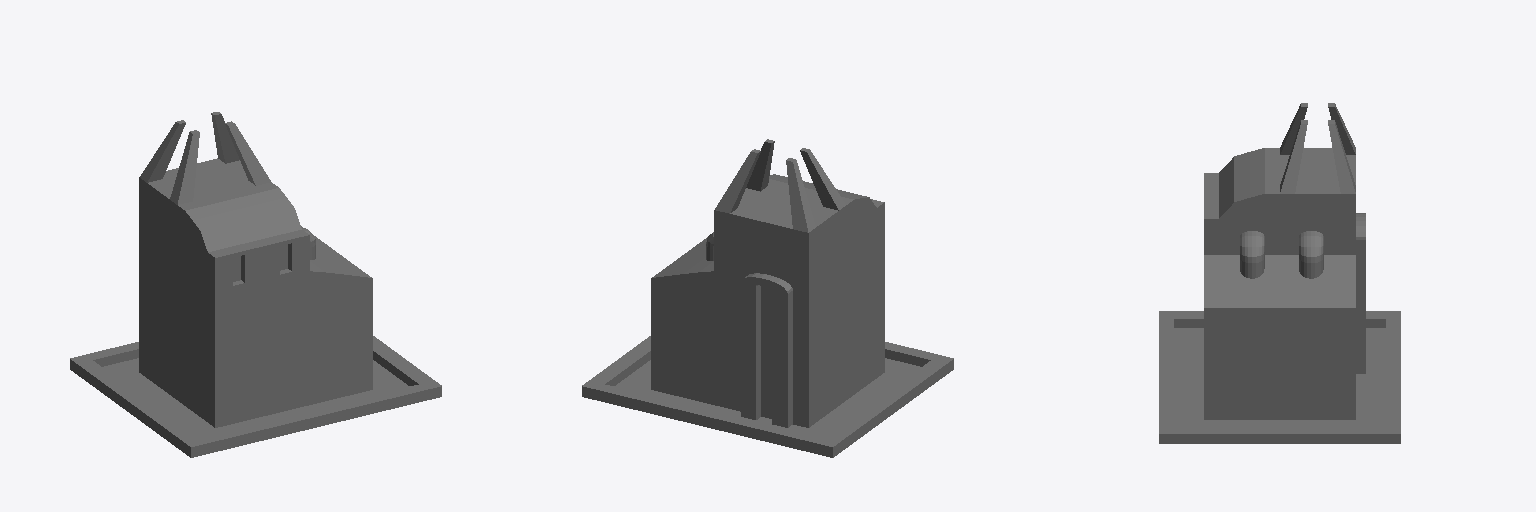
Rendered from UpdatedRoof2.obj.
3 views of the same model, side by side, from view 1: azimuth 30°, elevation 25°; view 2: azimuth 150°, elevation 25°; view 3: azimuth 270°, elevation 25° (orthographic).
Visible parts, largest first — view 1: pCube28; view 2: pCube28; view 3: pCube28.
Part boxes in pixels (left/top/right/bottom): pCube28: left=70, top=112, right=441, bottom=457; pCube28: left=582, top=139, right=953, bottom=457; pCube28: left=1159, top=103, right=1400, bottom=443.
Size of the model in its own units: 1.32 by 1.27 by 1.1.